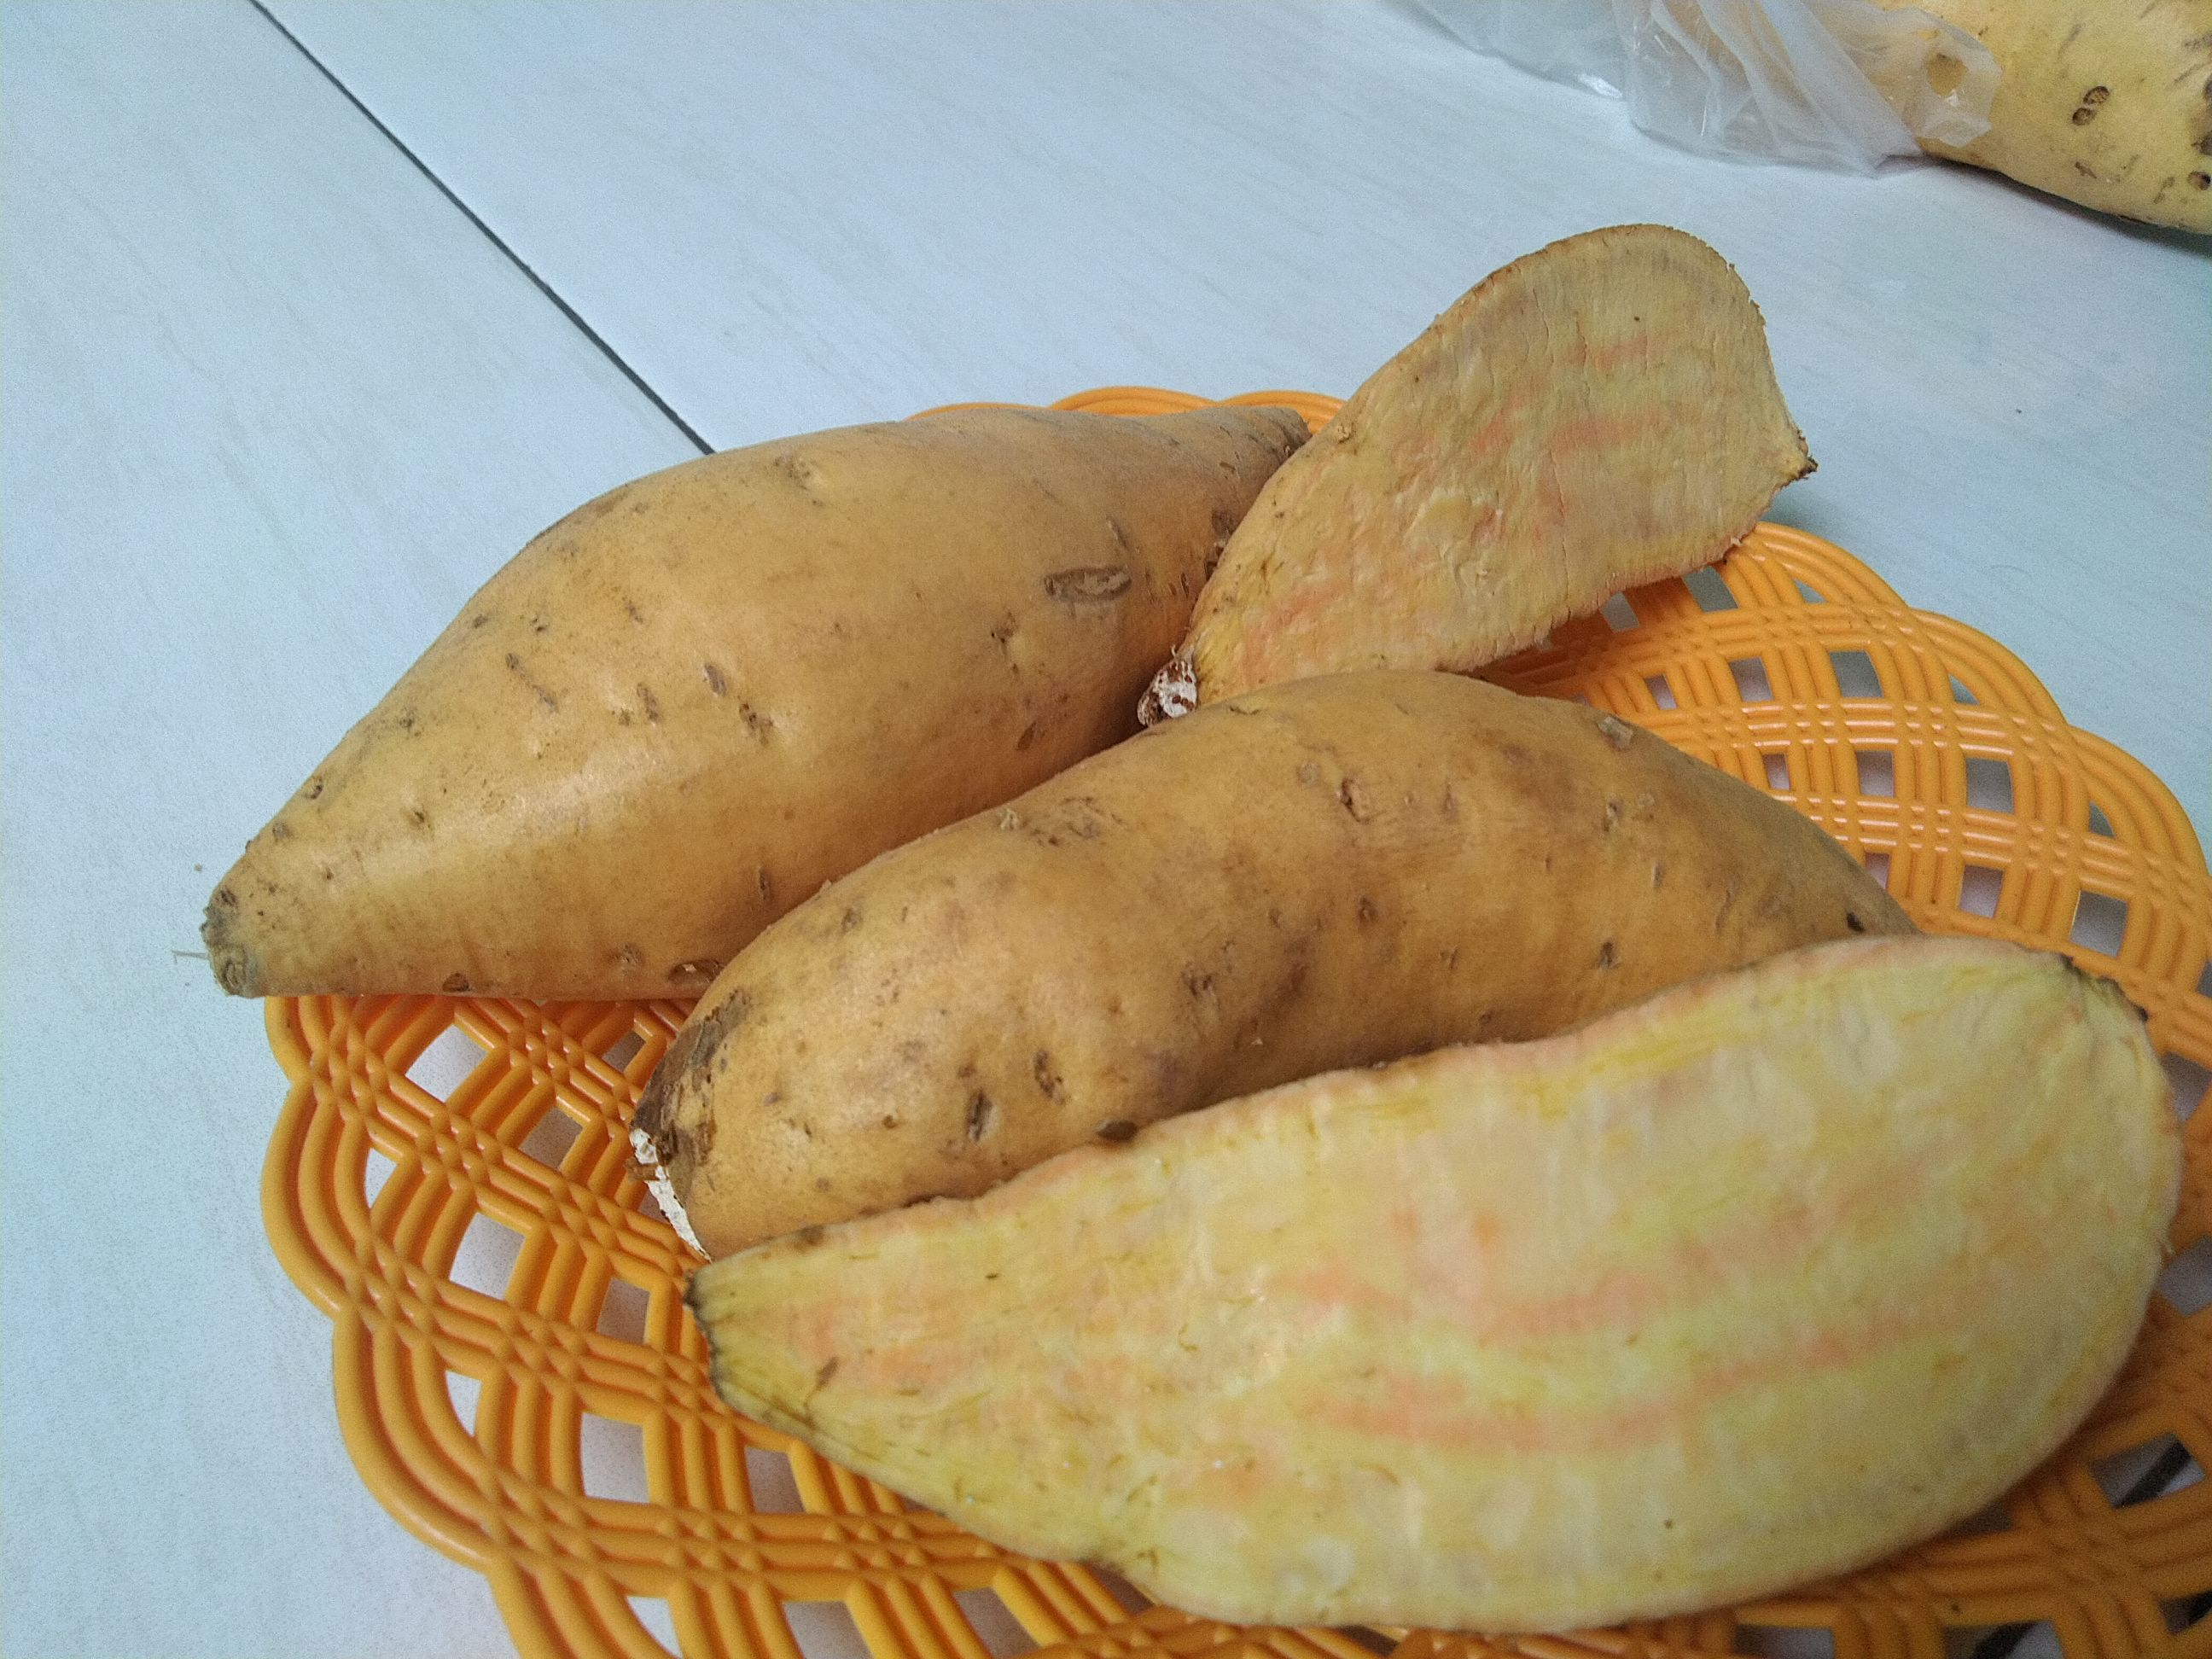ubi cilembu: (679, 931, 2196, 1636), (637, 648, 2013, 1265), (183, 394, 1318, 1004), (1143, 206, 1832, 746)
